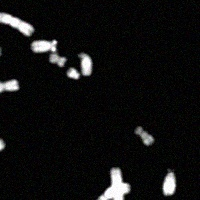chromosome: (0, 11, 34, 37), (92, 182, 131, 200), (109, 167, 125, 200), (30, 36, 56, 53), (133, 126, 153, 146), (161, 172, 176, 196), (79, 52, 93, 76), (0, 79, 19, 96), (49, 54, 64, 66), (66, 68, 80, 80), (0, 139, 5, 163), (197, 170, 200, 197), (0, 46, 1, 58)
